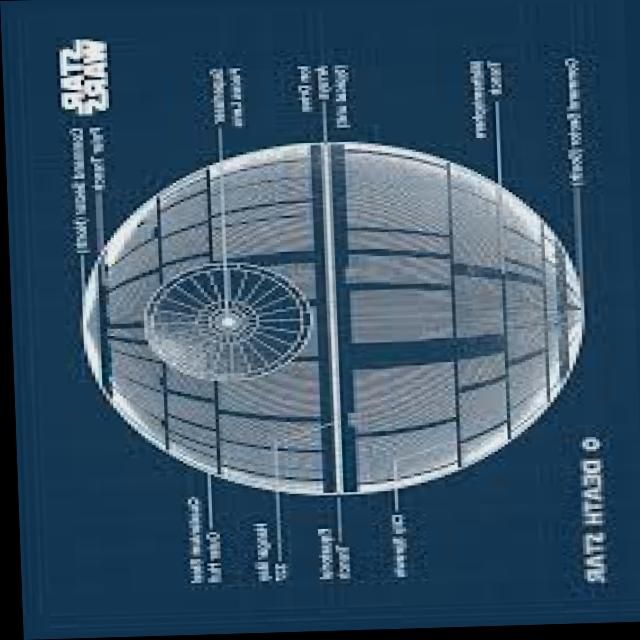deathStar: (71, 135, 595, 503)
